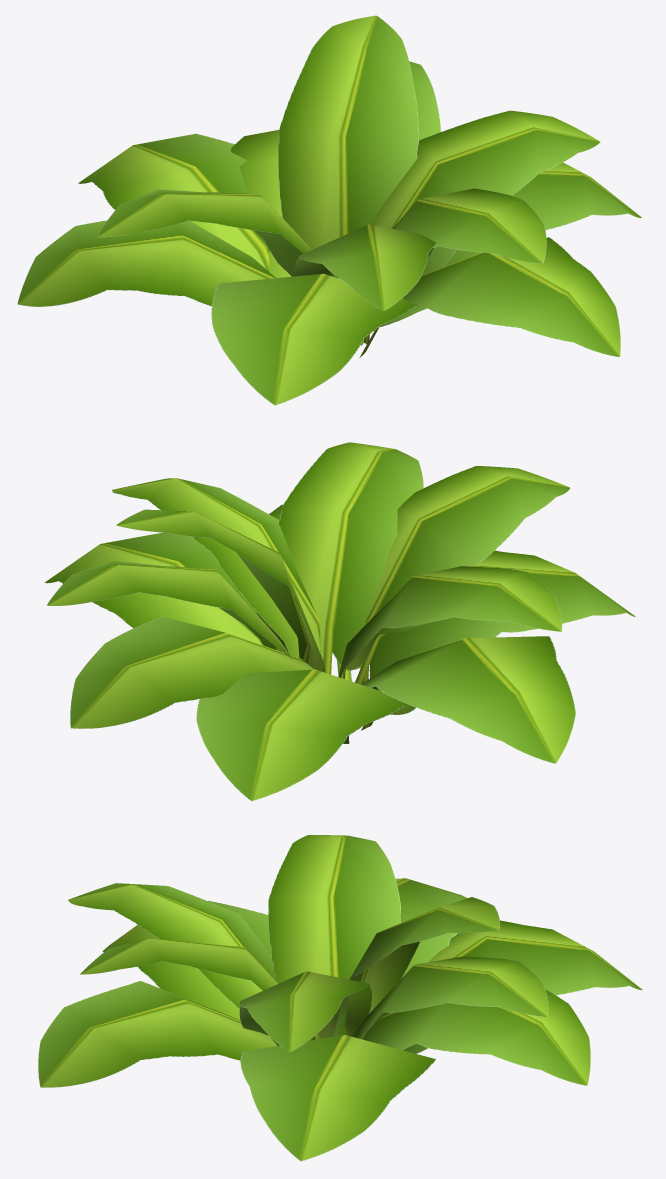
The model's file is Bush_04.FBX.
The picture shows the model from 3 angles, top to bottom: view 1: azimuth 30°, elevation 25°; view 2: azimuth 150°, elevation 25°; view 3: azimuth 270°, elevation 25°; orthographic projection. The views are drawn at different scales.
Visible parts, largest first — view 1: Bush_04; view 2: Bush_04; view 3: Bush_04.
Boxes of the visible parts, x1,y1,x2,y2 form: Bush_04: (17, 15, 641, 405); Bush_04: (44, 442, 635, 801); Bush_04: (38, 835, 642, 1161).
Bounding box in the file's own units: 94.7 × 40.19 × 97.62.
1 material, 1 textured.
